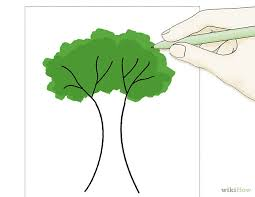tree: (34, 23, 166, 171)
